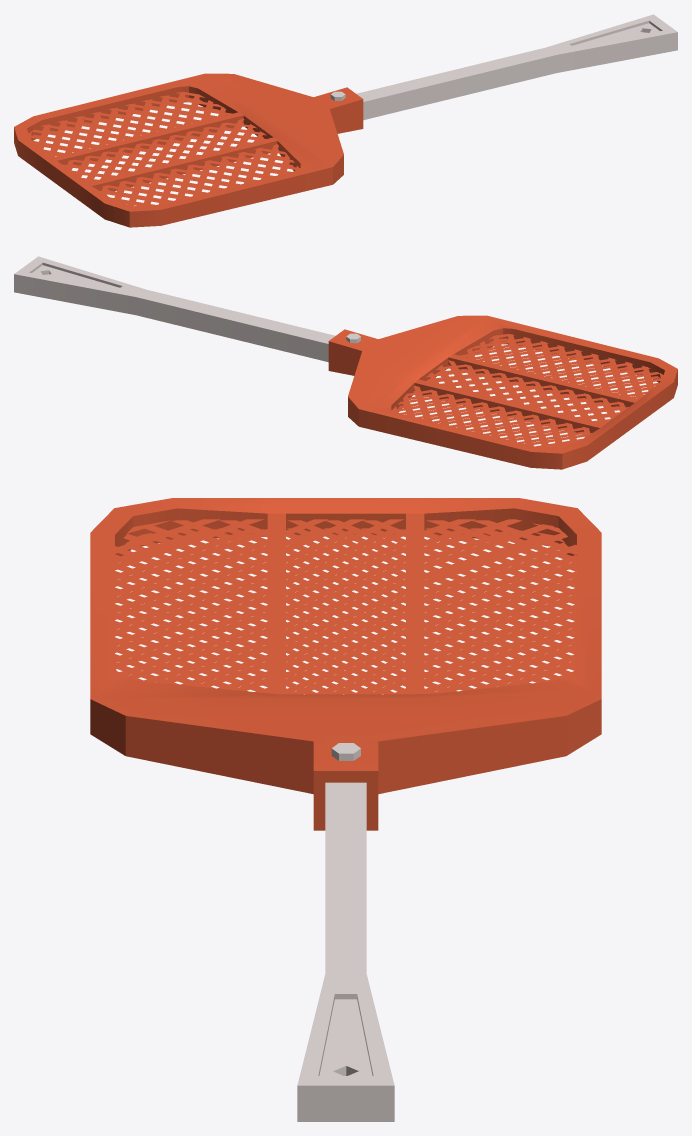
File: flySwatter.fbx
3 renders of one model, top to bottom at view 1: azimuth 30°, elevation 25°; view 2: azimuth 150°, elevation 25°; view 3: azimuth 270°, elevation 25°, orthographic. The views are drawn at different scales.
Visible parts, largest first — view 1: Cube.056; view 2: Cube.056; view 3: Cube.056.
Boxes of the visible parts, x1=… form: Cube.056: x1=14, y1=14, x2=677, y2=227; Cube.056: x1=14, y1=256, x2=677, y2=469; Cube.056: x1=90, y1=498, x2=601, y2=1121.
Size of the model in its own units: 113 by 6.36 by 41.22.
